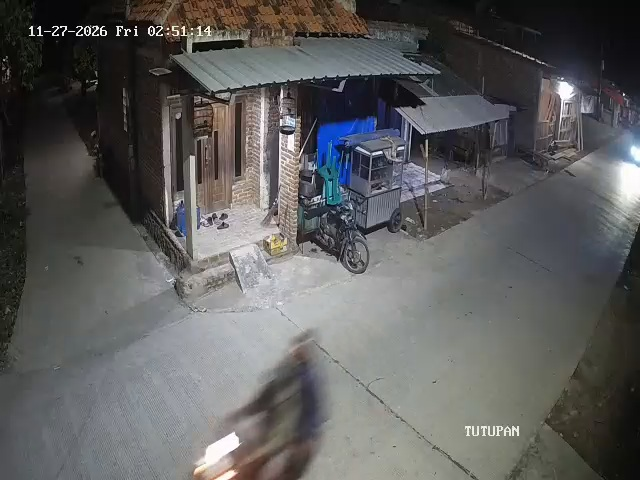Gerobak: (346, 131, 408, 233)
